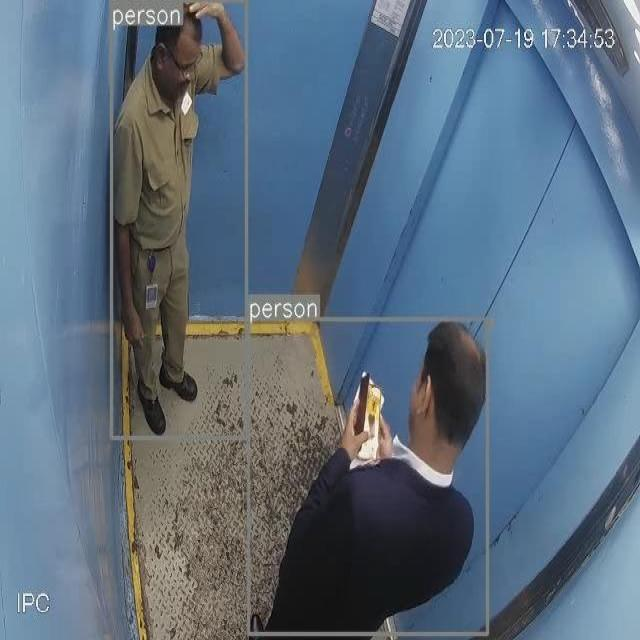person: (251, 318, 489, 634), (113, 4, 249, 441)
